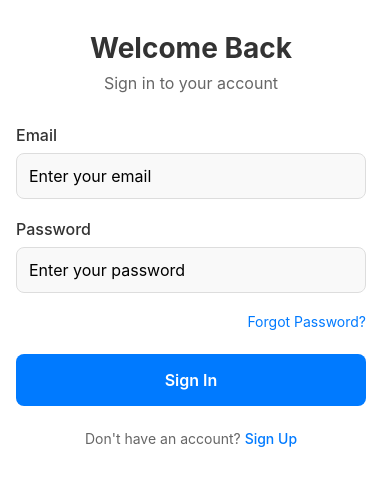
it: LoginScreen › Form Validation › should validate required fields
// Submit without filling fields
Click the text "Sign In" at [191, 380], box [165,370,217,390]
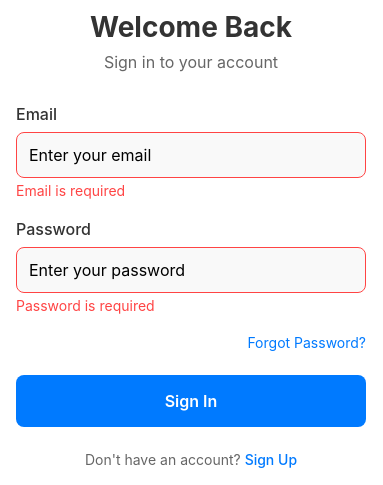
Expected: the text "Email is required" is shown, [16,182,125,199]
Expected: the text "Password is required" is shown, [16,297,155,314]
